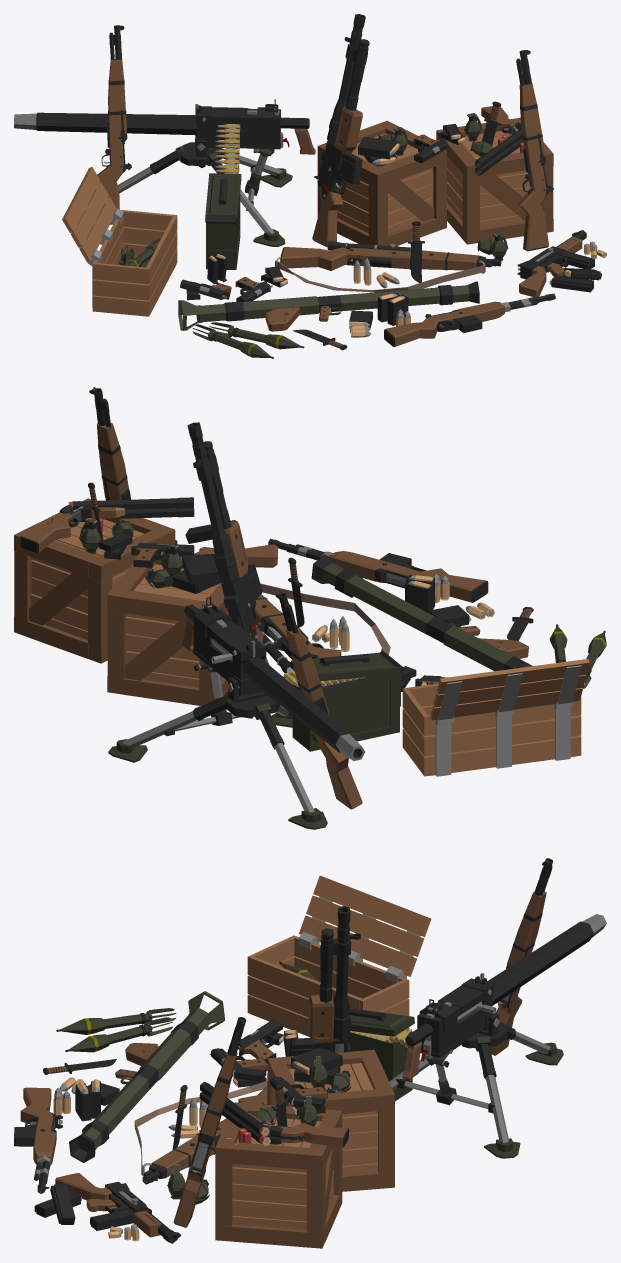
The model's file is WW2WeaponsPack.fbx.
The picture shows the model from 3 angles, top to bottom: view 1: azimuth 30°, elevation 25°; view 2: azimuth 150°, elevation 25°; view 3: azimuth 270°, elevation 25°; orthographic projection. The views are drawn at different scales.
Parts seen in each view (by area): view 1: 30Cal, Cylinder.010, Cube.008, Cube.000, HeavyRifle.001, Bazooka, Sniper, Rifle, Rifle.003, Carbine, Cube.005, SubMachineGun.001 (+11 smaller); view 2: 30Cal, Cylinder.010, Cube.000, Cube.008, Bazooka, HeavyRifle.001, Carbine, Rifle.003, Rifle, Rifle.002, Sniper, Rifle.001 (+5 smaller); view 3: 30Cal, Cylinder.010, Cube.000, Cube.008, Bazooka, HeavyRifle.001, Rifle, Carbine, Rifle.003, Sniper, Rifle.001, Rcoket.007 (+11 smaller).
Boxes of the visible parts, bbox=[...] form: 30Cal: bbox=[14, 99, 315, 269]; Cylinder.010: bbox=[62, 167, 177, 316]; Cube.008: bbox=[317, 120, 446, 245]; Cube.000: bbox=[436, 117, 553, 244]; HeavyRifle.001: bbox=[312, 14, 369, 247]; Bazooka: bbox=[178, 281, 479, 331]; Sniper: bbox=[280, 241, 501, 270]; Rifle: bbox=[516, 50, 553, 251]; Rifle.003: bbox=[97, 25, 131, 224]; Carbine: bbox=[384, 293, 555, 347]; Cube.005: bbox=[275, 260, 485, 292]; SubMachineGun.001: bbox=[520, 246, 568, 279]; 30Cal: bbox=[108, 596, 404, 829]; Cylinder.010: bbox=[402, 659, 589, 776]; Cube.000: bbox=[14, 498, 175, 663]; Cube.008: bbox=[107, 556, 228, 705]; Bazooka: bbox=[311, 554, 532, 671]; HeavyRifle.001: bbox=[187, 422, 269, 664]; Carbine: bbox=[268, 538, 488, 602]; Rifle.003: bbox=[275, 592, 362, 809]; Rifle: bbox=[89, 387, 130, 500]; Rifle.002: bbox=[72, 497, 194, 521]; Sniper: bbox=[254, 594, 341, 673]; Rifle.001: bbox=[20, 504, 83, 553]; 30Cal: bbox=[308, 914, 606, 1158]; Cylinder.010: bbox=[247, 875, 431, 1036]; Cube.000: bbox=[215, 1102, 342, 1248]; Cube.008: bbox=[267, 1049, 394, 1191]; Bazooka: bbox=[69, 991, 224, 1162]; HeavyRifle.001: bbox=[288, 906, 360, 1056]; Rifle: bbox=[173, 1017, 246, 1227]; Carbine: bbox=[14, 1087, 62, 1193]; Rifle.003: bbox=[490, 858, 552, 1055]; Sniper: bbox=[142, 1086, 267, 1184]; Rifle.001: bbox=[263, 1123, 349, 1147]; Rcoket.007: bbox=[56, 1008, 176, 1034].
Size of the model in its own units: 1778 by 799 by 1666.
